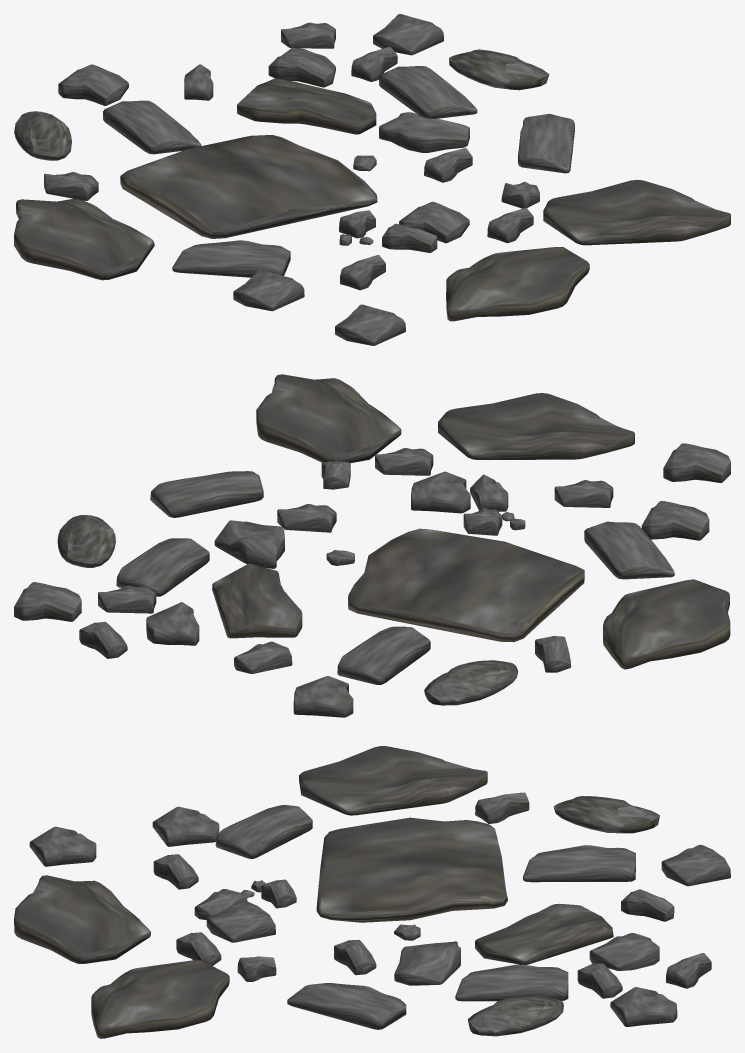
The model's file is stone.fbx.
3 views of the same model, one above another, from view 1: azimuth 30°, elevation 25°; view 2: azimuth 150°, elevation 25°; view 3: azimuth 270°, elevation 25° (orthographic). The views are drawn at different scales.
Parts seen in each view (by area): view 1: stone.002, stone.049, stone.004, stone.053, stone.003, stone.046, stone.001, stone.054, stone.056, stone.015, stone.047, stone.059 (+16 smaller); view 2: stone.002, stone.053, stone.049, stone.004, stone.003, stone.056, stone.046, stone.054, stone.001, stone.059, stone.047, stone.015 (+16 smaller); view 3: stone.002, stone.004, stone.053, stone.049, stone.003, stone.056, stone.054, stone.001, stone.046, stone.059, stone.015, stone.047 (+16 smaller).
Part boxes in pixels (box(x1,y1,x2,y2)): stone.002: box(120, 135, 377, 238); stone.049: box(543, 180, 730, 245); stone.004: box(14, 198, 154, 280); stone.053: box(446, 247, 589, 321); stone.003: box(237, 78, 376, 134); stone.046: box(172, 240, 290, 277); stone.001: box(379, 66, 477, 118); stone.054: box(103, 100, 201, 154); stone.056: box(518, 114, 574, 173); stone.015: box(449, 49, 549, 90); stone.047: box(379, 112, 469, 152); stone.059: box(14, 111, 71, 160); stone.002: box(348, 528, 584, 642); stone.053: box(438, 393, 634, 459); stone.049: box(256, 374, 401, 462); stone.004: box(603, 579, 730, 669); stone.003: box(212, 563, 302, 638); stone.056: box(150, 471, 263, 517); stone.046: box(584, 521, 674, 579); stone.054: box(337, 626, 430, 684); stone.001: box(116, 538, 209, 596); stone.059: box(424, 660, 517, 705); stone.047: box(214, 520, 284, 568); stone.015: box(57, 515, 115, 567); stone.002: box(316, 817, 507, 922); stone.004: box(299, 746, 487, 815); stone.053: box(14, 875, 150, 963); stone.049: box(91, 960, 229, 1038); stone.003: box(475, 903, 613, 964); stone.056: box(287, 983, 406, 1029); stone.054: box(523, 845, 635, 882); stone.001: box(455, 964, 568, 1001); stone.046: box(215, 805, 312, 858); stone.059: box(554, 796, 659, 833); stone.015: box(468, 996, 563, 1036); stone.047: box(394, 941, 460, 985).
Size of the model in its own units: 46.01 by 1.94 by 49.45.
Materials: 2 (2 with a texture image).
